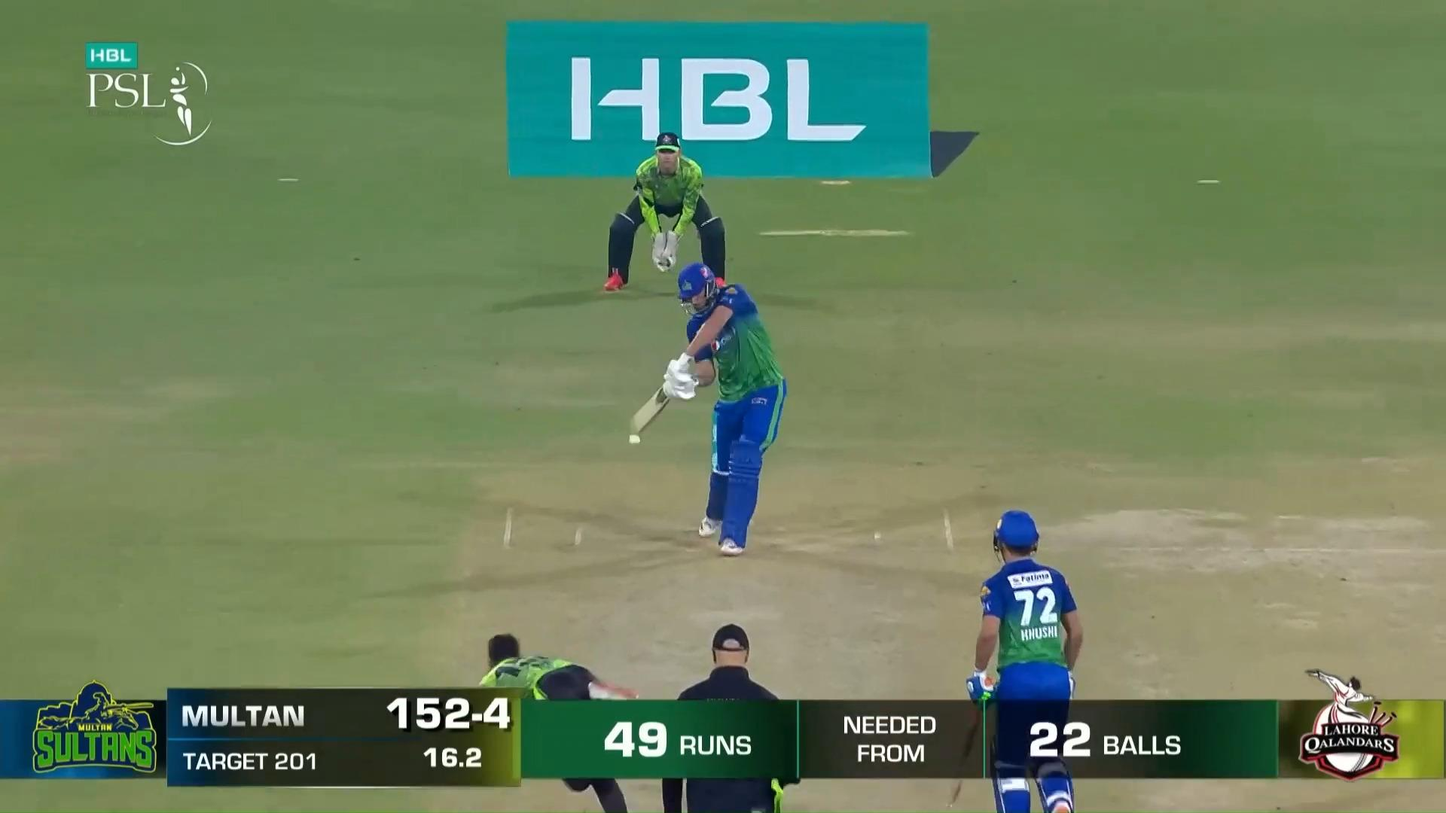batsman: (629, 263, 787, 556)
